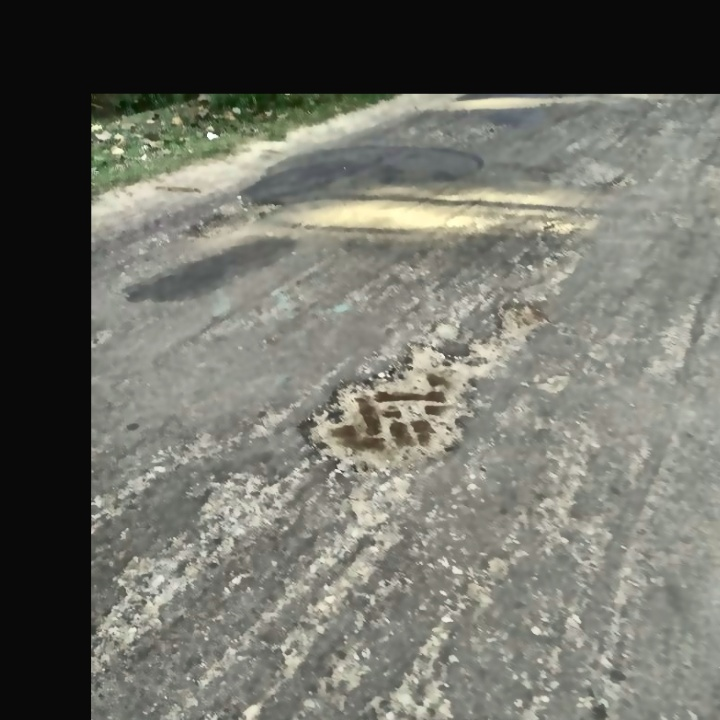pothole: (288, 340, 483, 481), (185, 196, 284, 239), (496, 299, 546, 345)
